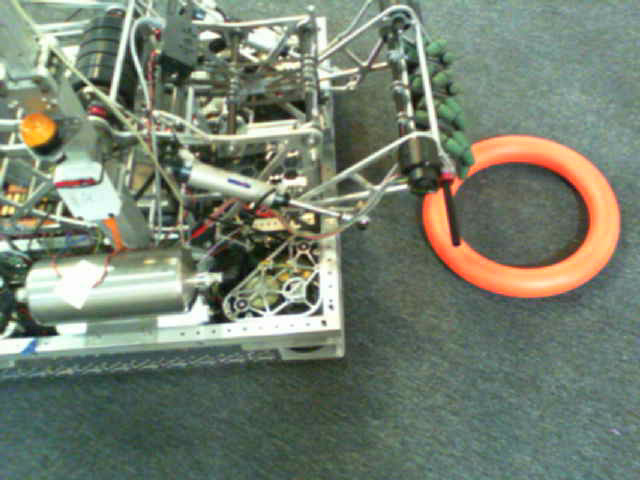Note: (429, 140, 626, 308)
Robot: (6, 1, 452, 389)
